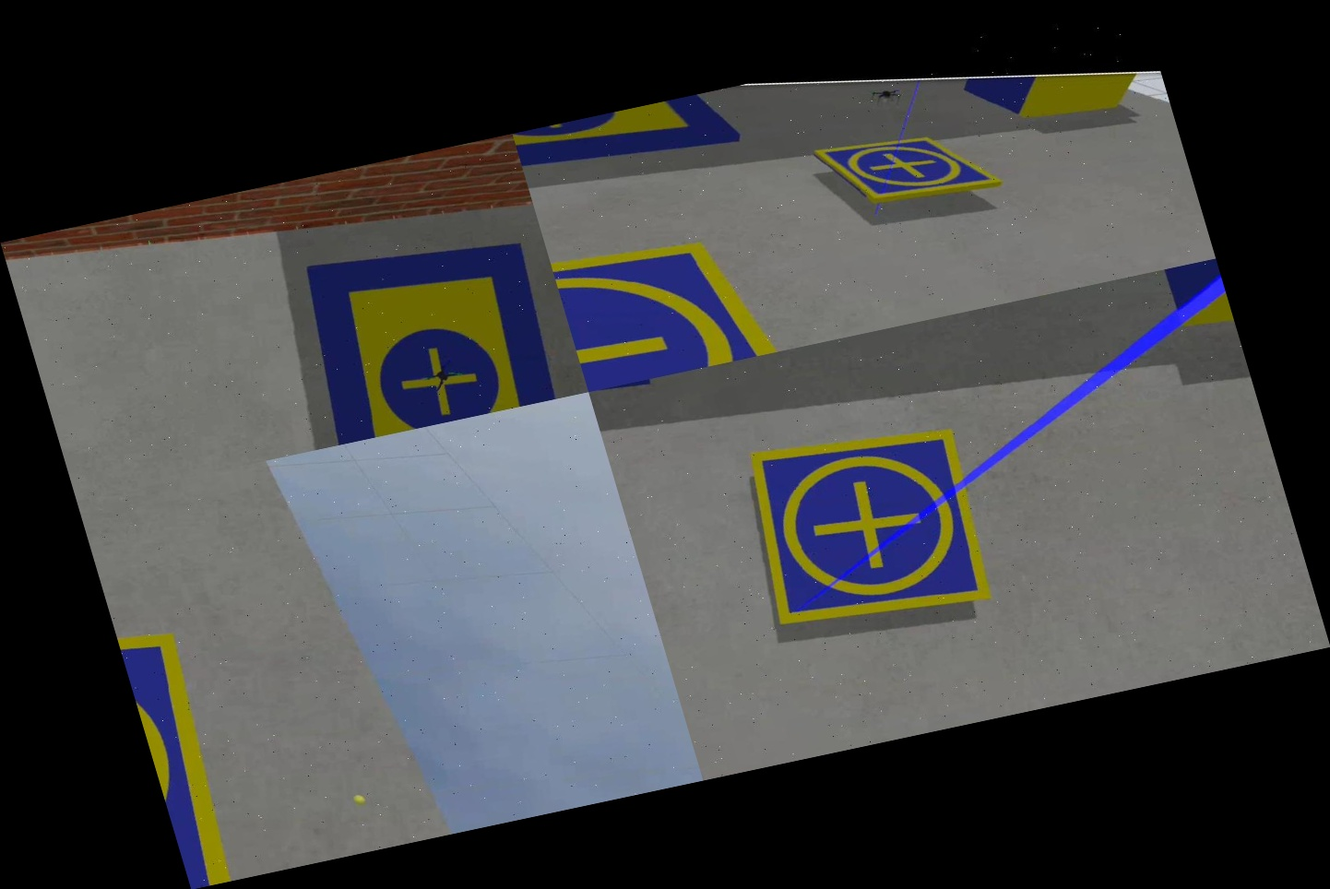large_base: (236, 202, 588, 455), (513, 85, 766, 211)
small_base: (706, 387, 1041, 665), (533, 143, 870, 392), (802, 101, 1020, 233)
